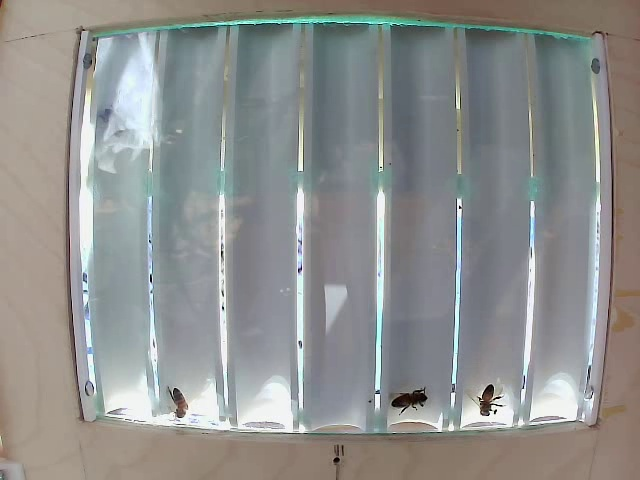bee: (471, 378, 507, 421), (167, 382, 198, 424), (386, 391, 427, 409)
